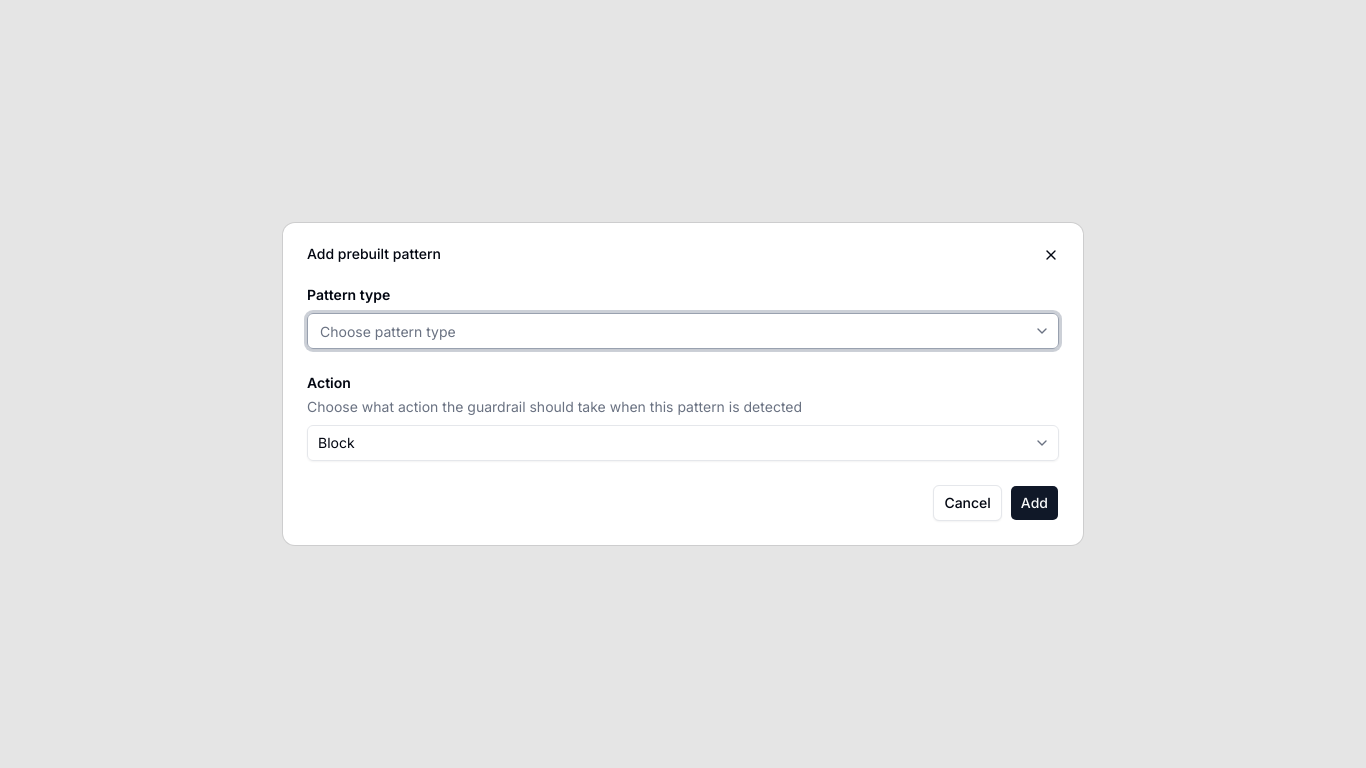
it: PatternModal › should narrow the pattern options to the typed search text
Expected: the heading "Add prebuilt pattern" is shown, [307,245,441,262]
Click the dropdown with placeholder "Choose pattern type" at (669, 331), box [308,313,1030,349]
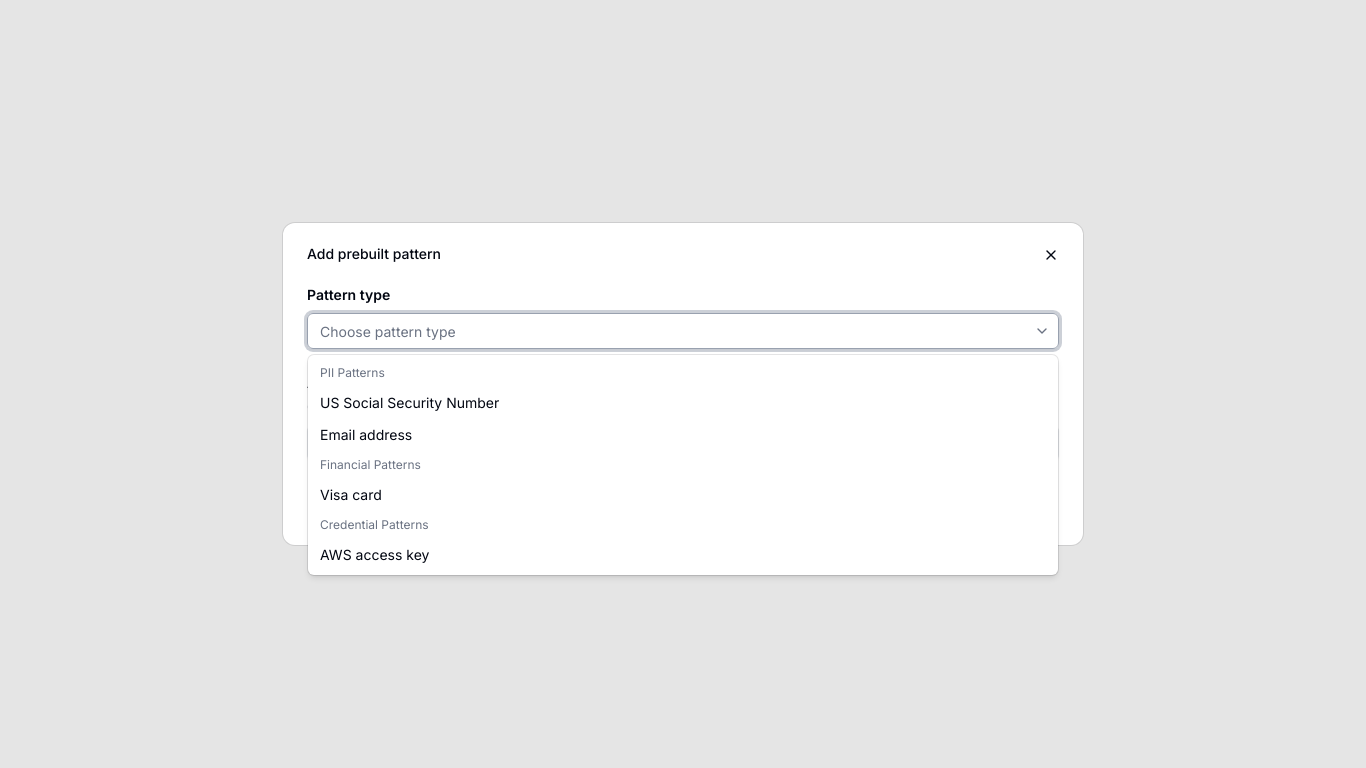
Type keys "visa"
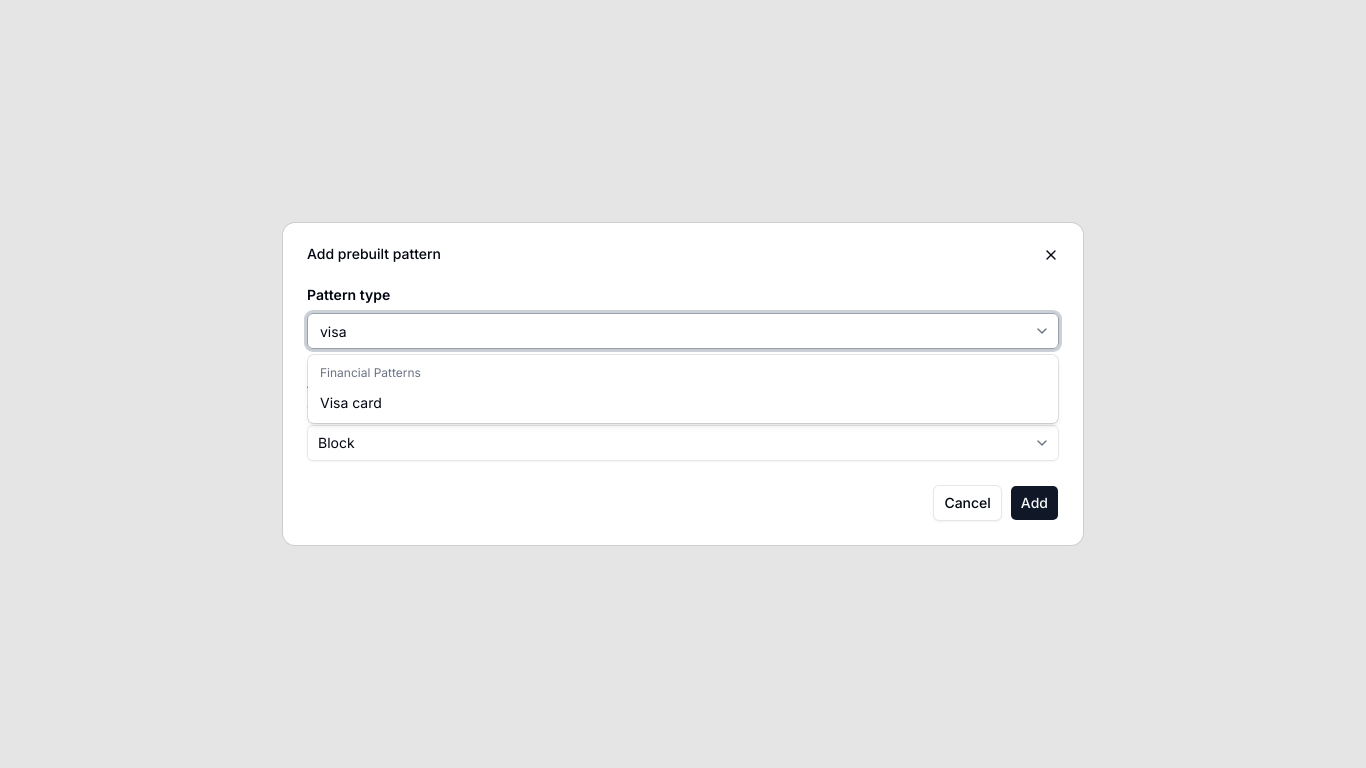
Expected: the option "Visa card" is shown, [320,394,382,411]
Expected: the option "Email address" is gone
Expected: the option "AWS access key" is gone
